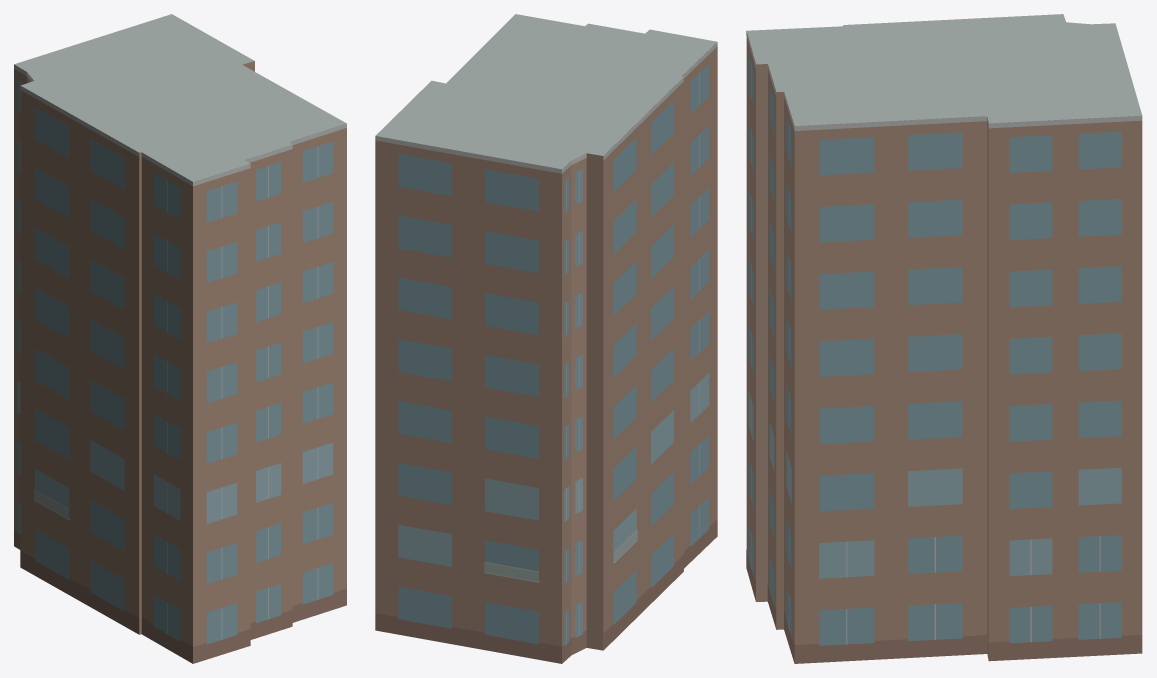
Rendered from survey-upis-32583747.glb.
The picture shows the model from 3 angles, left to right: view 1: azimuth 30°, elevation 25°; view 2: azimuth 150°, elevation 25°; view 3: azimuth 270°, elevation 25°; orthographic projection. The views are drawn at different scales.
Visible parts, largest first — view 1: survey-upis-32583747.tmp; view 2: survey-upis-32583747.tmp; view 3: survey-upis-32583747.tmp.
Part boxes in pixels (x1,y1,x2,y2): survey-upis-32583747.tmp: (14,14,346,663); survey-upis-32583747.tmp: (375,14,717,663); survey-upis-32583747.tmp: (746,14,1142,663).
Size of the model in its own units: 11.95 by 26.7 by 17.82.
